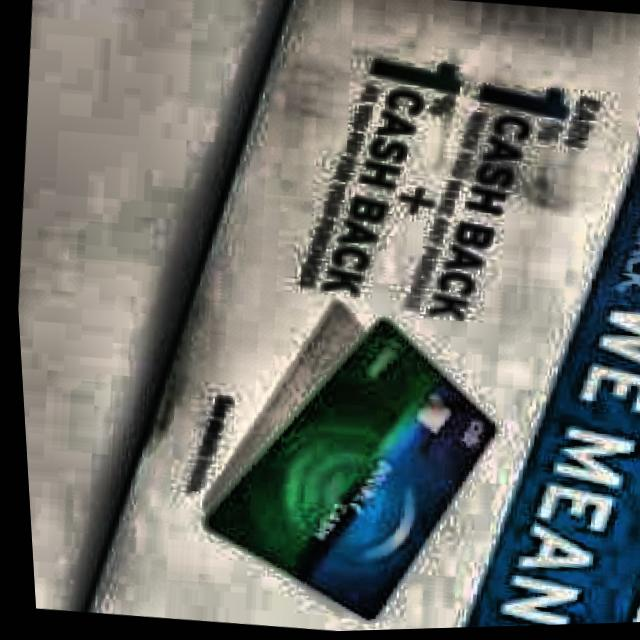paper: (12, 0, 640, 640)
